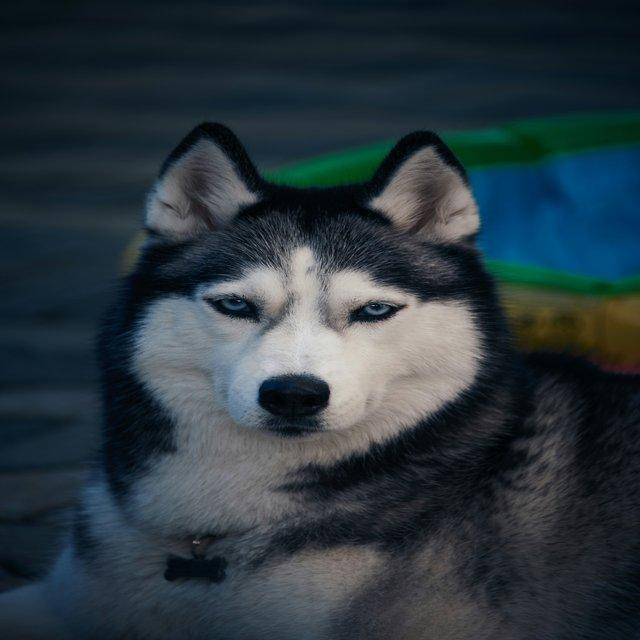husky: (1, 119, 638, 638)
